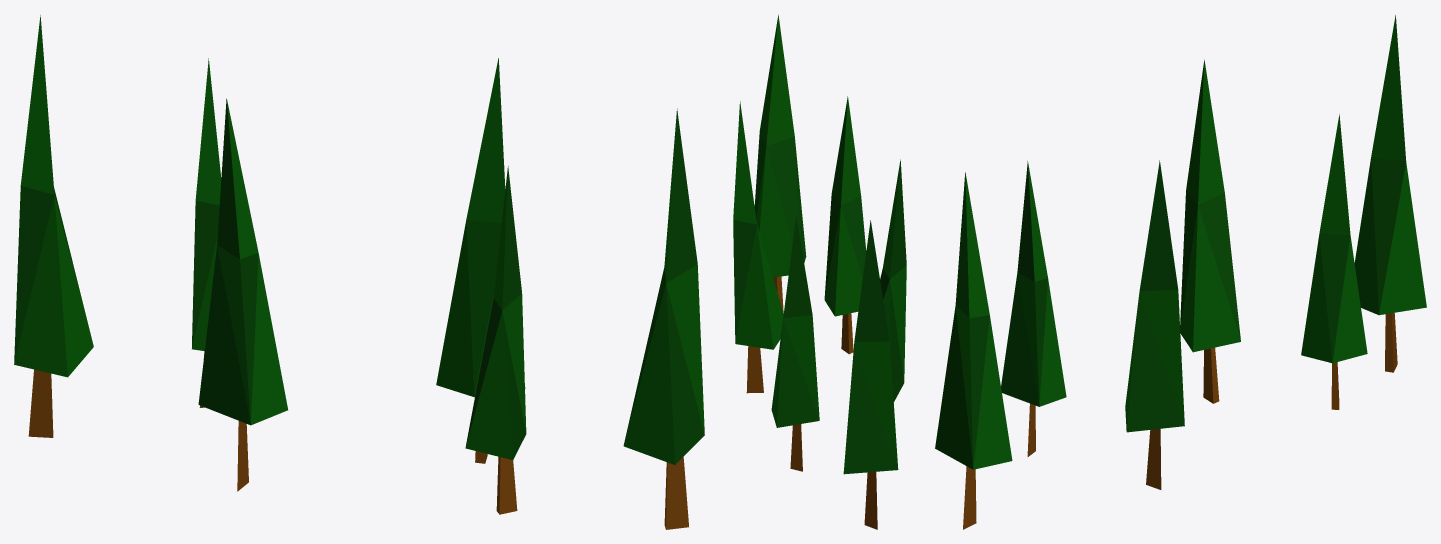
File: pines.gltf
3 views of the same model, side by side, from view 1: azimuth 30°, elevation 25°; view 2: azimuth 150°, elevation 25°; view 3: azimuth 270°, elevation 25° (orthographic). The views are drawn at different scales.
Parts seen in each view (by area): view 1: Pines_0; view 2: Pines_0; view 3: Pines_0.
Part boxes in pixels (bbox=[...]): Pines_0: bbox=[14, 15, 704, 529]; Pines_0: bbox=[733, 14, 906, 529]; Pines_0: bbox=[935, 15, 1426, 529].
Size of the model in its own units: 4.58 by 4.13 by 5.19.
